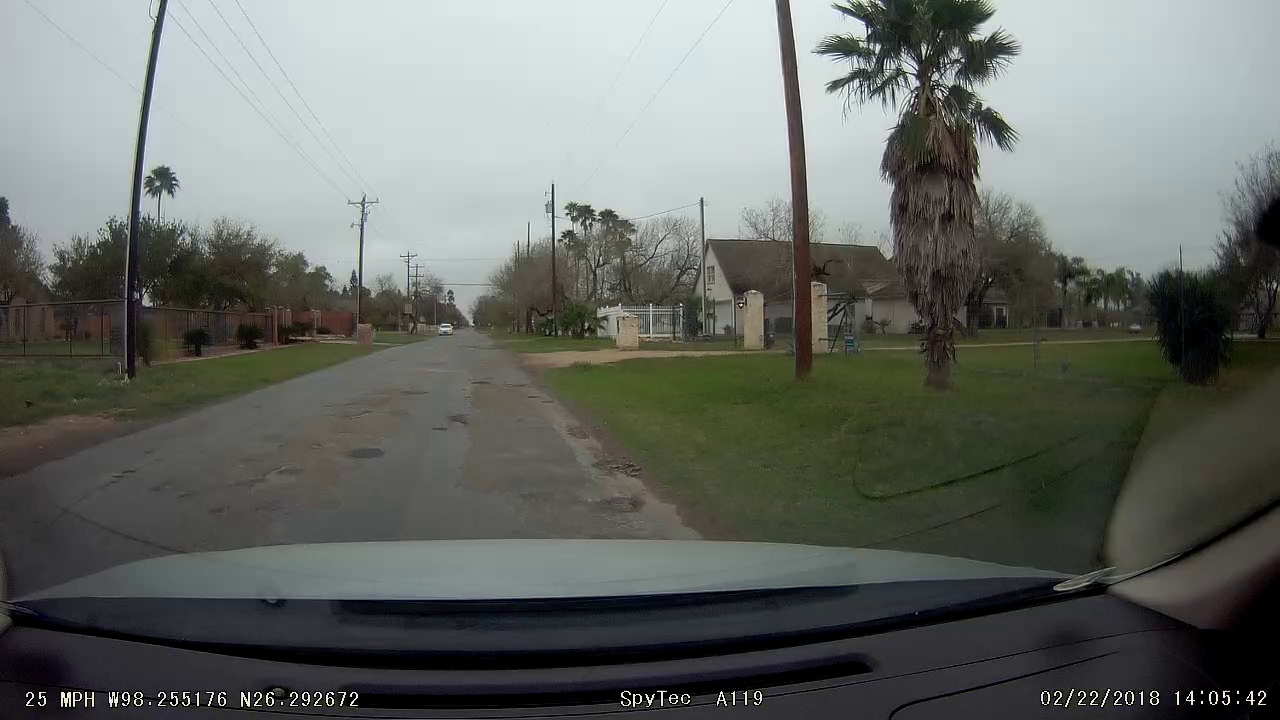pothole: (254, 458, 315, 500), (585, 491, 647, 522), (588, 452, 639, 477)
